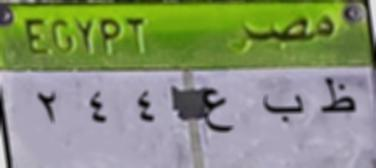2: (33, 86, 64, 134)
4: (84, 87, 109, 130), (133, 88, 158, 128)
Thaa: (316, 72, 360, 127)
ain: (199, 84, 236, 144)
baa: (258, 90, 309, 130)
